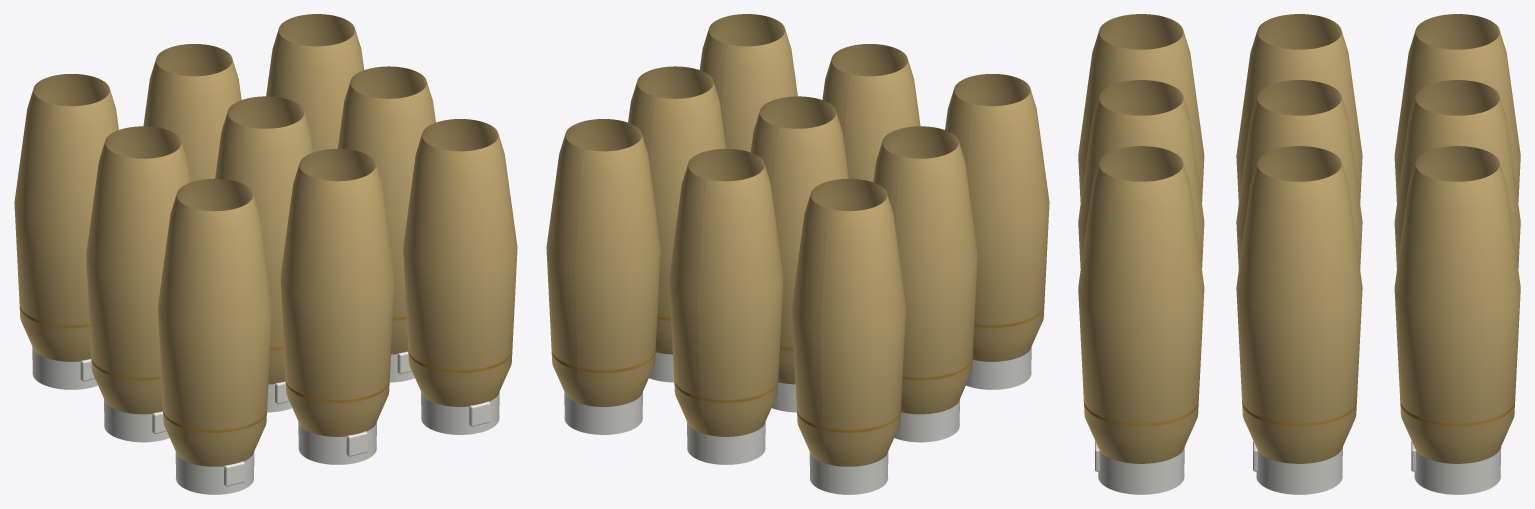
Rendered from alpfarm_wildflower_honey_500g.glb.
3 renders of one model, left to right at view 1: azimuth 30°, elevation 25°; view 2: azimuth 150°, elevation 25°; view 3: azimuth 270°, elevation 25°, orthographic. The views are drawn at different scales.
Visible parts, largest first — view 1: SQUEEZE | tapered flexible body | 2, SQUEEZE | tapered flexible body | 3, SQUEEZE | tapered flexible body, SQUEEZE | tapered flexible body | 4, SQUEEZE | tapered flexible body | 7, SQUEEZE | tapered flexible body | 5, SQUEEZE | tapered flexible body | 6, SQUEEZE | tapered flexible body | 8, SQUEEZE | tapered flexible body | 9, SQUEEZE | flip-top cap | 2, SQUEEZE | flip-top cap | 3, SQUEEZE | flip-top cap (+2 smaller); view 2: SQUEEZE | tapered flexible body | 8, SQUEEZE | tapered flexible body | 9, SQUEEZE | tapered flexible body | 7, SQUEEZE | tapered flexible body | 4, SQUEEZE | tapered flexible body, SQUEEZE | tapered flexible body | 5, SQUEEZE | tapered flexible body | 6, SQUEEZE | tapered flexible body | 2, SQUEEZE | tapered flexible body | 3, SQUEEZE | flip-top cap | 8, SQUEEZE | flip-top cap | 7, SQUEEZE | flip-top cap | 9 (+4 smaller); view 3: SQUEEZE | tapered flexible body | 9, SQUEEZE | tapered flexible body | 3, SQUEEZE | tapered flexible body | 6, SQUEEZE | tapered flexible body | 4, SQUEEZE | tapered flexible body, SQUEEZE | tapered flexible body | 5, SQUEEZE | tapered flexible body | 7, SQUEEZE | tapered flexible body | 2, SQUEEZE | tapered flexible body | 8, SQUEEZE | flip-top cap | 3, SQUEEZE | flip-top cap | 9, SQUEEZE | flip-top cap | 6.
Part boxes in pixels (x1=…): SQUEEZE | tapered flexible body | 2: x1=280, y1=149, x2=394, y2=436; SQUEEZE | tapered flexible body | 3: x1=403, y1=119, x2=517, y2=406; SQUEEZE | tapered flexible body: x1=158, y1=178, x2=272, y2=466; SQUEEZE | tapered flexible body | 4: x1=86, y1=126, x2=190, y2=414; SQUEEZE | tapered flexible body | 7: x1=14, y1=74, x2=118, y2=361; SQUEEZE | tapered flexible body | 5: x1=215, y1=96, x2=313, y2=384; SQUEEZE | tapered flexible body | 6: x1=337, y1=66, x2=435, y2=354; SQUEEZE | tapered flexible body | 8: x1=143, y1=44, x2=241, y2=182; SQUEEZE | tapered flexible body | 9: x1=266, y1=14, x2=364, y2=152; SQUEEZE | flip-top cap | 2: x1=298, y1=422, x2=376, y2=464; SQUEEZE | flip-top cap | 3: x1=421, y1=392, x2=499, y2=434; SQUEEZE | flip-top cap: x1=175, y1=452, x2=254, y2=494; SQUEEZE | tapered flexible body | 8: x1=669, y1=149, x2=783, y2=436; SQUEEZE | tapered flexible body | 9: x1=546, y1=119, x2=660, y2=406; SQUEEZE | tapered flexible body | 7: x1=791, y1=178, x2=905, y2=466; SQUEEZE | tapered flexible body | 4: x1=873, y1=126, x2=977, y2=414; SQUEEZE | tapered flexible body: x1=945, y1=74, x2=1049, y2=361; SQUEEZE | tapered flexible body | 5: x1=750, y1=96, x2=848, y2=384; SQUEEZE | tapered flexible body | 6: x1=628, y1=66, x2=726, y2=354; SQUEEZE | tapered flexible body | 2: x1=822, y1=44, x2=920, y2=182; SQUEEZE | tapered flexible body | 3: x1=699, y1=14, x2=797, y2=152; SQUEEZE | flip-top cap | 8: x1=687, y1=422, x2=765, y2=464; SQUEEZE | flip-top cap | 7: x1=809, y1=452, x2=888, y2=494; SQUEEZE | flip-top cap | 9: x1=564, y1=392, x2=642, y2=434; SQUEEZE | tapered flexible body | 9: x1=1394, y1=146, x2=1520, y2=463; SQUEEZE | tapered flexible body | 3: x1=1078, y1=146, x2=1204, y2=463; SQUEEZE | tapered flexible body | 6: x1=1236, y1=146, x2=1362, y2=463; SQUEEZE | tapered flexible body | 4: x1=1236, y1=14, x2=1362, y2=203; SQUEEZE | tapered flexible body: x1=1078, y1=14, x2=1204, y2=202; SQUEEZE | tapered flexible body | 5: x1=1236, y1=80, x2=1362, y2=269; SQUEEZE | tapered flexible body | 7: x1=1394, y1=14, x2=1520, y2=202; SQUEEZE | tapered flexible body | 2: x1=1078, y1=80, x2=1204, y2=268; SQUEEZE | tapered flexible body | 8: x1=1394, y1=80, x2=1520, y2=268; SQUEEZE | flip-top cap | 3: x1=1098, y1=446, x2=1184, y2=494; SQUEEZE | flip-top cap | 9: x1=1414, y1=447, x2=1501, y2=494; SQUEEZE | flip-top cap | 6: x1=1256, y1=447, x2=1342, y2=494.
Bounding box in the file's own units: 0.2302 × 0.181 × 0.2322.
Materials: 4 (1 with a texture image).
